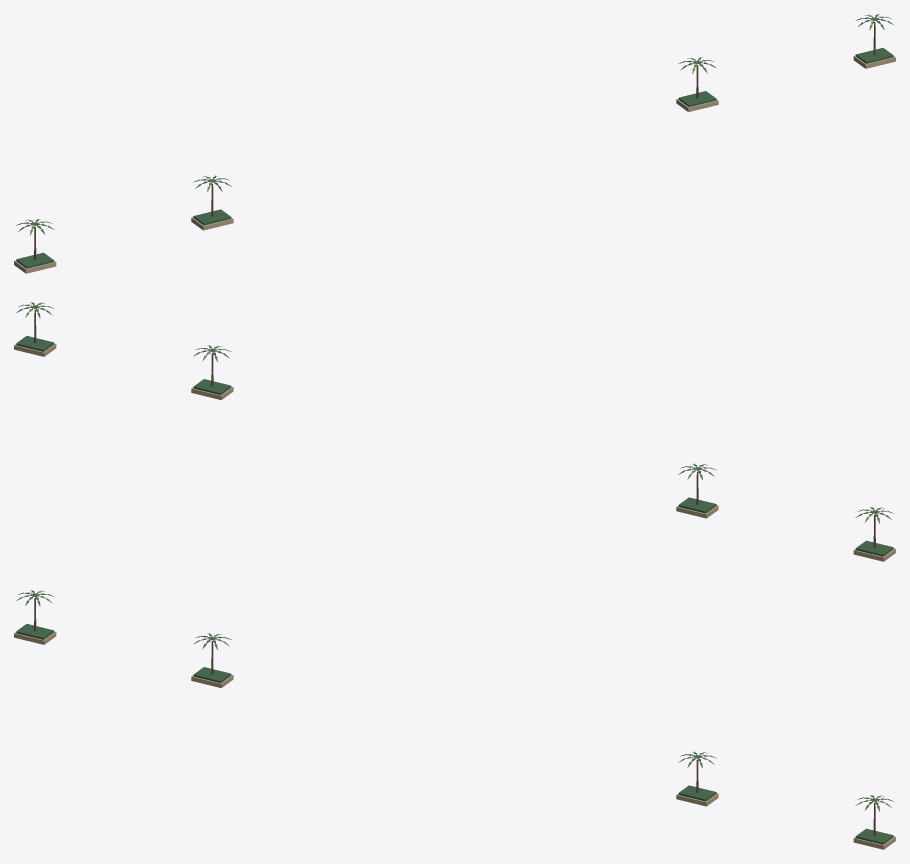
File: KOL_T1_URBANA__Landscape.fbx
The picture shows the model from 3 angles, top to bottom: view 1: azimuth 30°, elevation 25°; view 2: azimuth 150°, elevation 25°; view 3: azimuth 330°, elevation 25°; orthographic projection.
Parts seen in each view (by area): view 1: KOL_T1_URBANA__Landscape__KOL_T1_Leaf, KOL_T1_URBANA__Landscape__KOL_T1_Stone; view 2: KOL_T1_URBANA__Landscape__KOL_T1_Leaf, KOL_T1_URBANA__Landscape__KOL_T1_Stone; view 3: KOL_T1_URBANA__Landscape__KOL_T1_Leaf, KOL_T1_URBANA__Landscape__KOL_T1_Stone.
Part boxes in pixels (x1,y1,x2,y2): KOL_T1_URBANA__Landscape__KOL_T1_Leaf: (16, 14, 893, 268); KOL_T1_URBANA__Landscape__KOL_T1_Stone: (14, 55, 895, 273); KOL_T1_URBANA__Landscape__KOL_T1_Leaf: (16, 302, 893, 556); KOL_T1_URBANA__Landscape__KOL_T1_Stone: (14, 343, 895, 561); KOL_T1_URBANA__Landscape__KOL_T1_Leaf: (16, 590, 893, 844); KOL_T1_URBANA__Landscape__KOL_T1_Stone: (14, 631, 895, 849).
Size of the model in its own units: 375 by 17.25 by 15.
